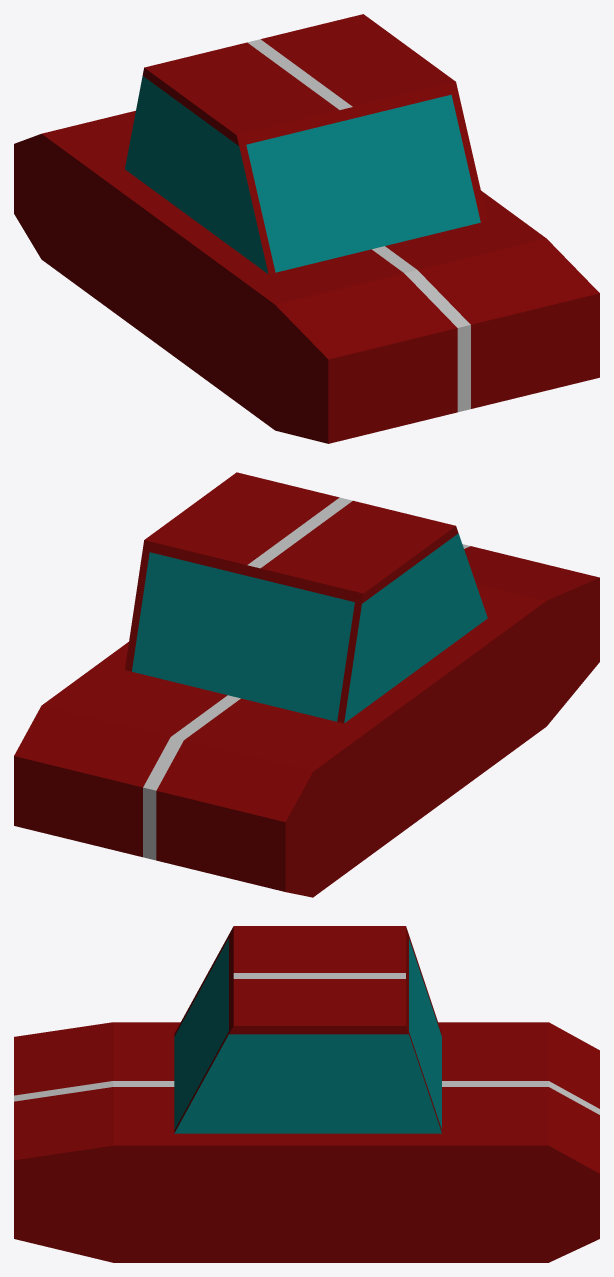
Rendered from car.obj.
3 views of the same model, one above another, from view 1: azimuth 30°, elevation 25°; view 2: azimuth 150°, elevation 25°; view 3: azimuth 270°, elevation 25° (orthographic). The views are drawn at different scales.
Parts seen in each view (by area): view 1: Cube; view 2: Cube; view 3: Cube.
Boxes of the visible parts, x1,y1,x2,y2 form: Cube: (14,14,599,443); Cube: (14,472,599,897); Cube: (14,926,599,1262).
Bounding box in the file's own units: 1.68 × 1.43 × 3.37.
1 material, 1 textured.
